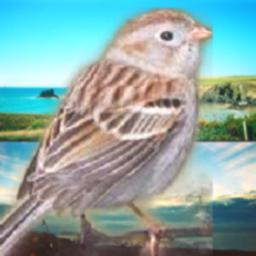Sparrow: (0, 8, 213, 256)
